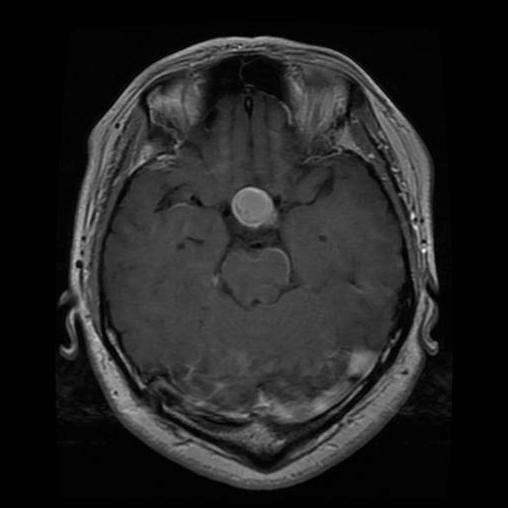Tumour-Pituitary: (217, 170, 290, 242)
